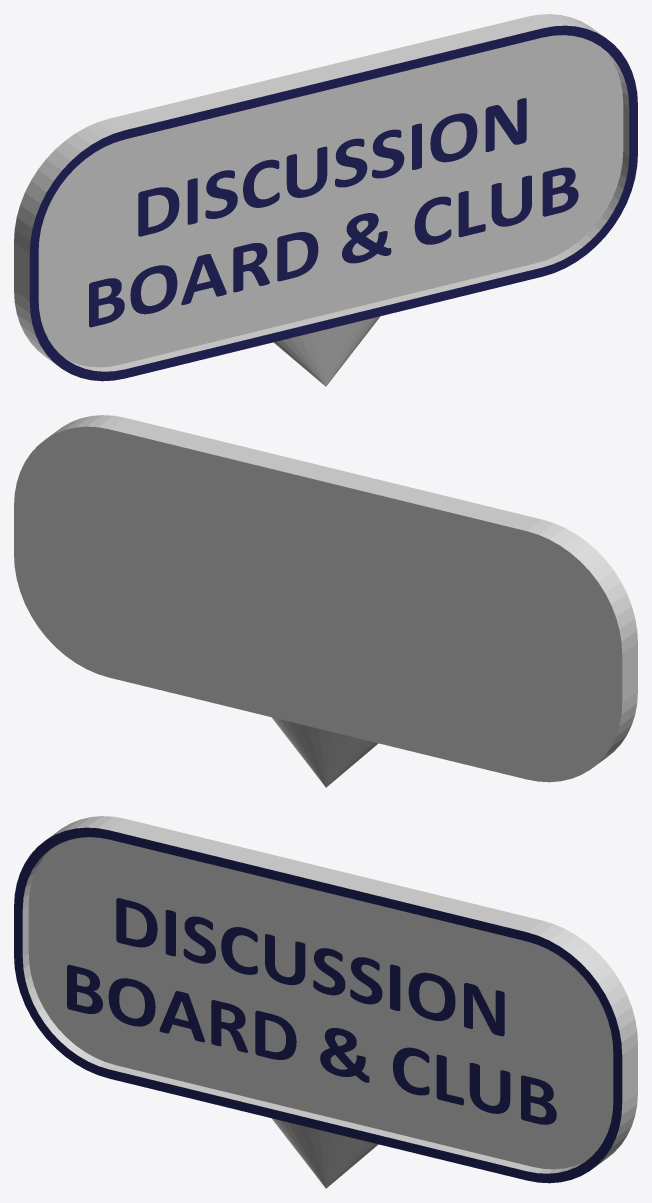
The model's file is DiscussionBoard&ClubDefault.glb.
The picture shows the model from 3 angles, top to bottom: view 1: azimuth 30°, elevation 25°; view 2: azimuth 150°, elevation 25°; view 3: azimuth 330°, elevation 25°; orthographic projection.
Parts seen in each view (by area): view 1: 立方体, 文本, 立方体.001, 立方体.002, 立方体.004; view 2: 立方体, 立方体.003, 立方体.002, 立方体.004; view 3: 立方体, 文本, 立方体.001, 立方体.002, 立方体.004.
Part boxes in pixels (x1,y1,x2,y2): 立方体: (38, 35, 629, 371); 文本: (89, 98, 578, 327); 立方体.001: (29, 25, 637, 381); 立方体.002: (14, 14, 603, 366); 立方体.004: (273, 316, 380, 386); 立方体: (21, 434, 614, 774); 立方体.003: (14, 426, 622, 782); 立方体.002: (48, 415, 637, 767); 立方体.004: (271, 717, 378, 787); 立方体: (22, 837, 613, 1173); 文本: (67, 898, 556, 1124); 立方体.001: (14, 827, 622, 1183); 立方体.002: (48, 816, 637, 1168); 立方体.004: (271, 1118, 378, 1188).
Bounding box in the file's own units: 5.13 × 2.52 × 0.2745.
